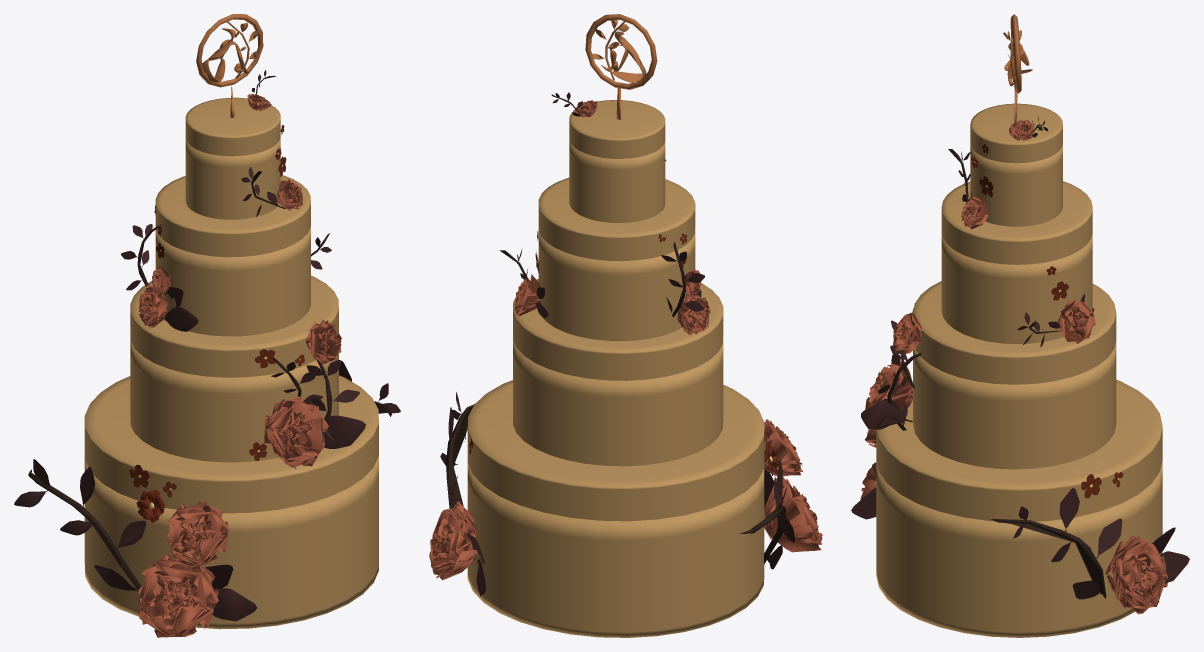
File: 4-tier-caramel-roses-ring.glb
The picture shows the model from 3 angles, left to right: view 1: azimuth 30°, elevation 25°; view 2: azimuth 150°, elevation 25°; view 3: azimuth 270°, elevation 25°; orthographic projection.
Parts seen in each view (by area): view 1: 3.001, 3, 2, 1, grid.013, Plane.024, grid.016, grid.012, Cylinder.006, grid.015, Plane.009, Plane.022 (+7 smaller); view 2: 3.001, 3, 2, 1, Cylinder.006, grid.020, grid.013, Plane.008, Plane.024, grid.012, grid.017, Plane.023 (+1 smaller); view 3: 3.001, 3, 2, 1, grid.020, Plane.008, grid.016, grid.019, Cylinder.006, Plane.009, grid.015, grid.021 (+3 smaller).
Part boxes in pixels (x1,y1,x2,y2): 3.001: (84, 375, 378, 629); 3: (130, 275, 338, 462); 2: (155, 175, 310, 336); 1: (185, 97, 280, 219); grid.013: (138, 554, 218, 637); Plane.024: (14, 459, 146, 591); grid.016: (264, 396, 328, 468); grid.012: (166, 501, 229, 568); Cylinder.006: (196, 14, 263, 117); grid.015: (306, 320, 341, 364); Plane.009: (323, 415, 365, 448); Plane.022: (212, 588, 257, 621); 3.001: (467, 380, 764, 637); 3: (513, 279, 723, 466); 2: (538, 177, 695, 340); 1: (569, 100, 665, 222); Cylinder.006: (585, 14, 657, 119); grid.020: (429, 501, 480, 580); grid.013: (764, 477, 822, 552); Plane.008: (440, 392, 475, 509); Plane.024: (739, 459, 795, 569); grid.012: (764, 419, 802, 476); grid.017: (677, 295, 710, 335); Plane.023: (661, 242, 704, 317); 3.001: (876, 379, 1162, 637); 3: (913, 281, 1116, 469); 2: (941, 181, 1092, 343); 1: (970, 103, 1062, 226); grid.020: (1105, 535, 1167, 614); Plane.008: (990, 487, 1122, 599); grid.016: (865, 358, 913, 409); grid.019: (1057, 300, 1095, 343); Cylinder.006: (1003, 14, 1032, 123); Plane.009: (861, 399, 912, 429); grid.015: (893, 313, 921, 353); grid.021: (961, 196, 989, 228).
Bounding box in the file's own units: 6.25 × 9.13 × 5.05.
